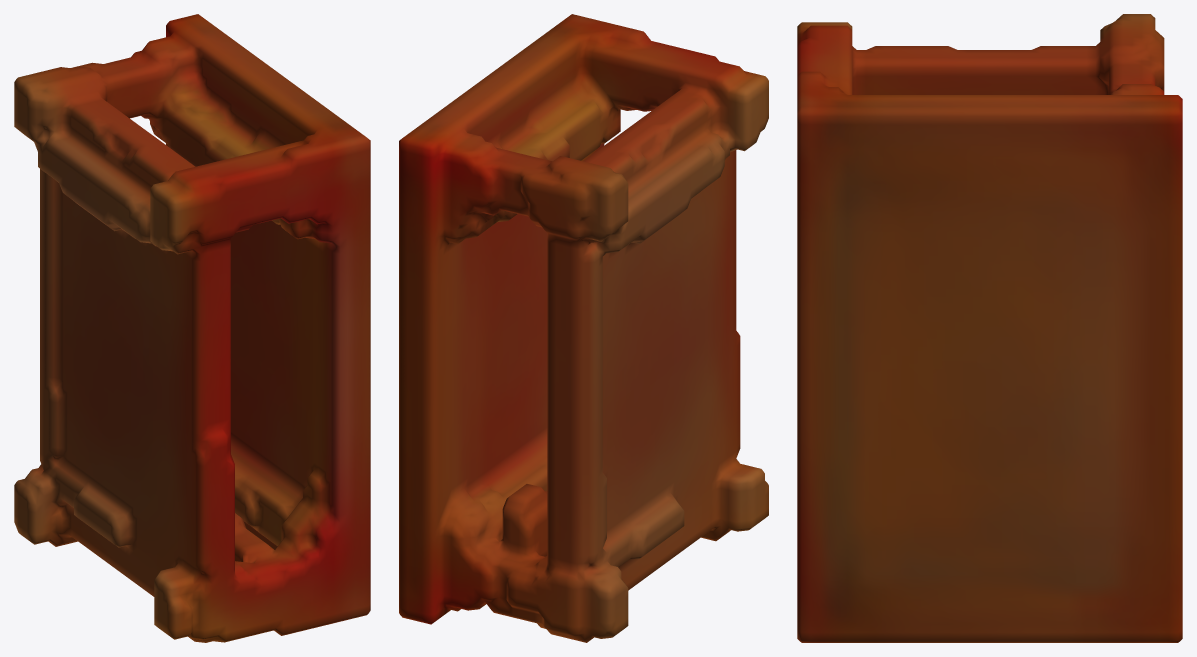
Rendered from Rectangular wooden table with a dark red finish an.glb.
The picture shows the model from 3 angles, left to right: view 1: azimuth 30°, elevation 25°; view 2: azimuth 150°, elevation 25°; view 3: azimuth 270°, elevation 25°; orthographic projection. The views are drawn at different scales.
Visible parts, largest first — view 1: Rectangular wooden table with a dark red finish an; view 2: Rectangular wooden table with a dark red finish an; view 3: Rectangular wooden table with a dark red finish an.
Boxes of the visible parts, x1,y1,x2,y2 form: Rectangular wooden table with a dark red finish an: (14,14,370,642); Rectangular wooden table with a dark red finish an: (399,14,768,642); Rectangular wooden table with a dark red finish an: (797,14,1182,642).
Size of the model in its own units: 28 by 64 by 42.
